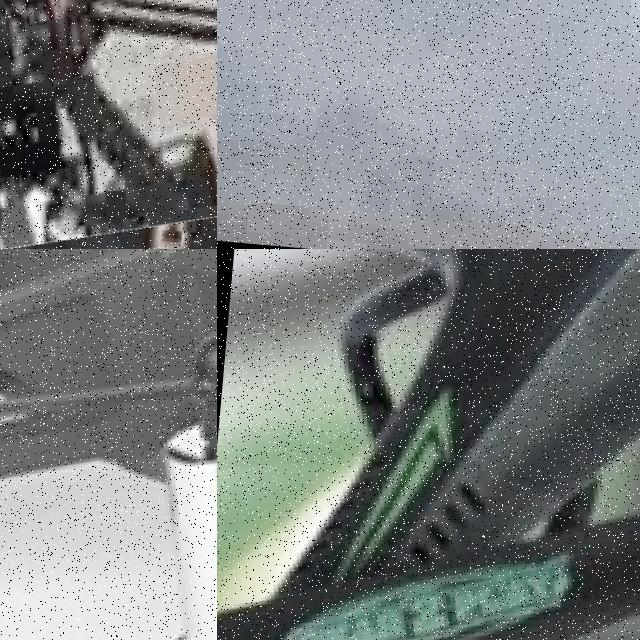drone: (217, 249, 640, 640), (0, 249, 217, 640), (0, 0, 217, 249)
